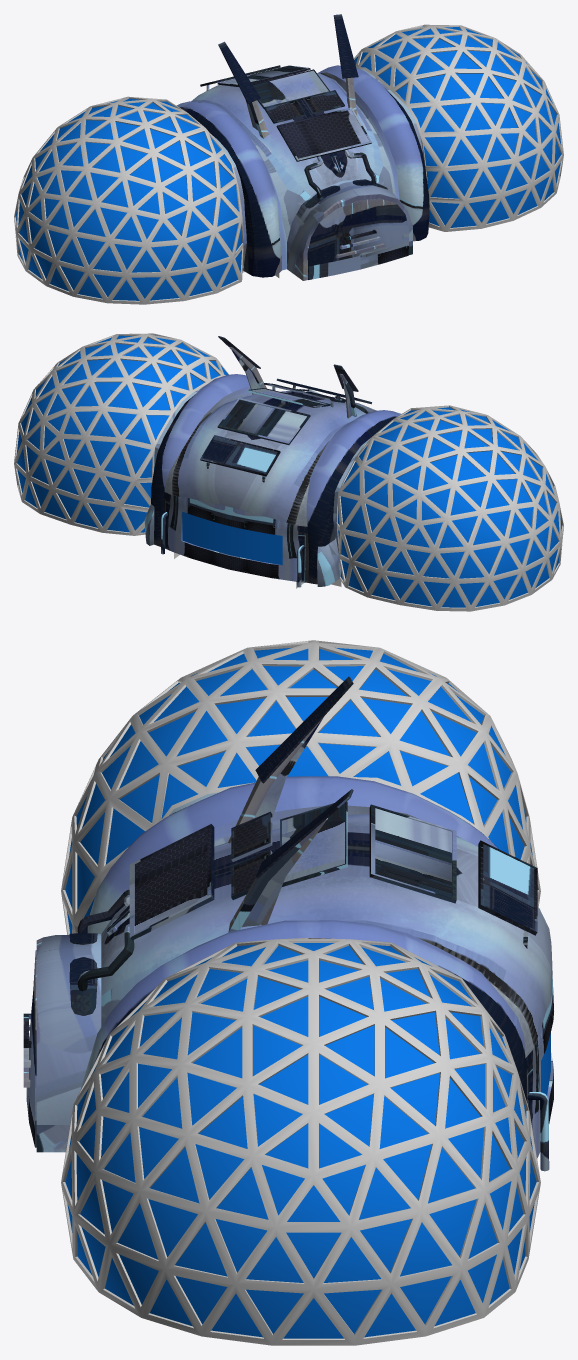
File: Estructura_Laboratorio.fbx
3 views of the same model, one above another, from view 1: azimuth 30°, elevation 25°; view 2: azimuth 150°, elevation 25°; view 3: azimuth 270°, elevation 25° (orthographic). The views are drawn at different scales.
Parts seen in each view (by area): view 1: Estructura_Base, Vidrios, Puerta_Superior, Oreja_Der, Oreja_Iz, Puertas_Baja_Der, Puertas_Baja_Iz; view 2: Estructura_Base, Vidrios, Oreja_Iz, Oreja_Der; view 3: Estructura_Base, Vidrios, Oreja_Iz, Oreja_Der, Puerta_Superior.
Part boxes in pixels (x1,y1,x2,y2): Estructura_Base: (14, 24, 563, 304); Vidrios: (15, 26, 561, 300); Puerta_Superior: (307, 198, 408, 266); Oreja_Der: (218, 41, 268, 138); Oreja_Iz: (333, 14, 358, 115); Puertas_Baja_Der: (308, 256, 368, 279); Puertas_Baja_Iz: (360, 242, 408, 269); Estructura_Base: (14, 333, 563, 611); Vidrios: (16, 335, 562, 607); Oreja_Iz: (218, 336, 266, 394); Oreja_Der: (333, 364, 358, 418); Estructura_Base: (36, 640, 553, 1345); Vidrios: (65, 647, 550, 1338); Oreja_Iz: (228, 789, 353, 932); Oreja_Der: (228, 676, 353, 843); Puerta_Superior: (23, 950, 36, 1120).
Size of the model in its own units: 3687 by 1298 by 1636.
